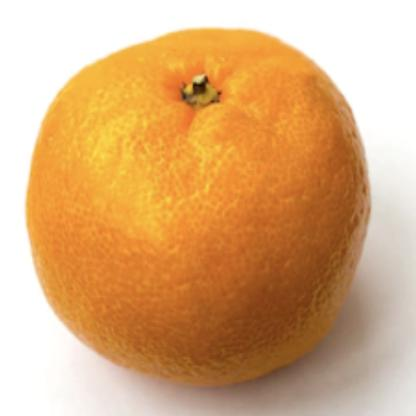fresh: (27, 30, 367, 381)
